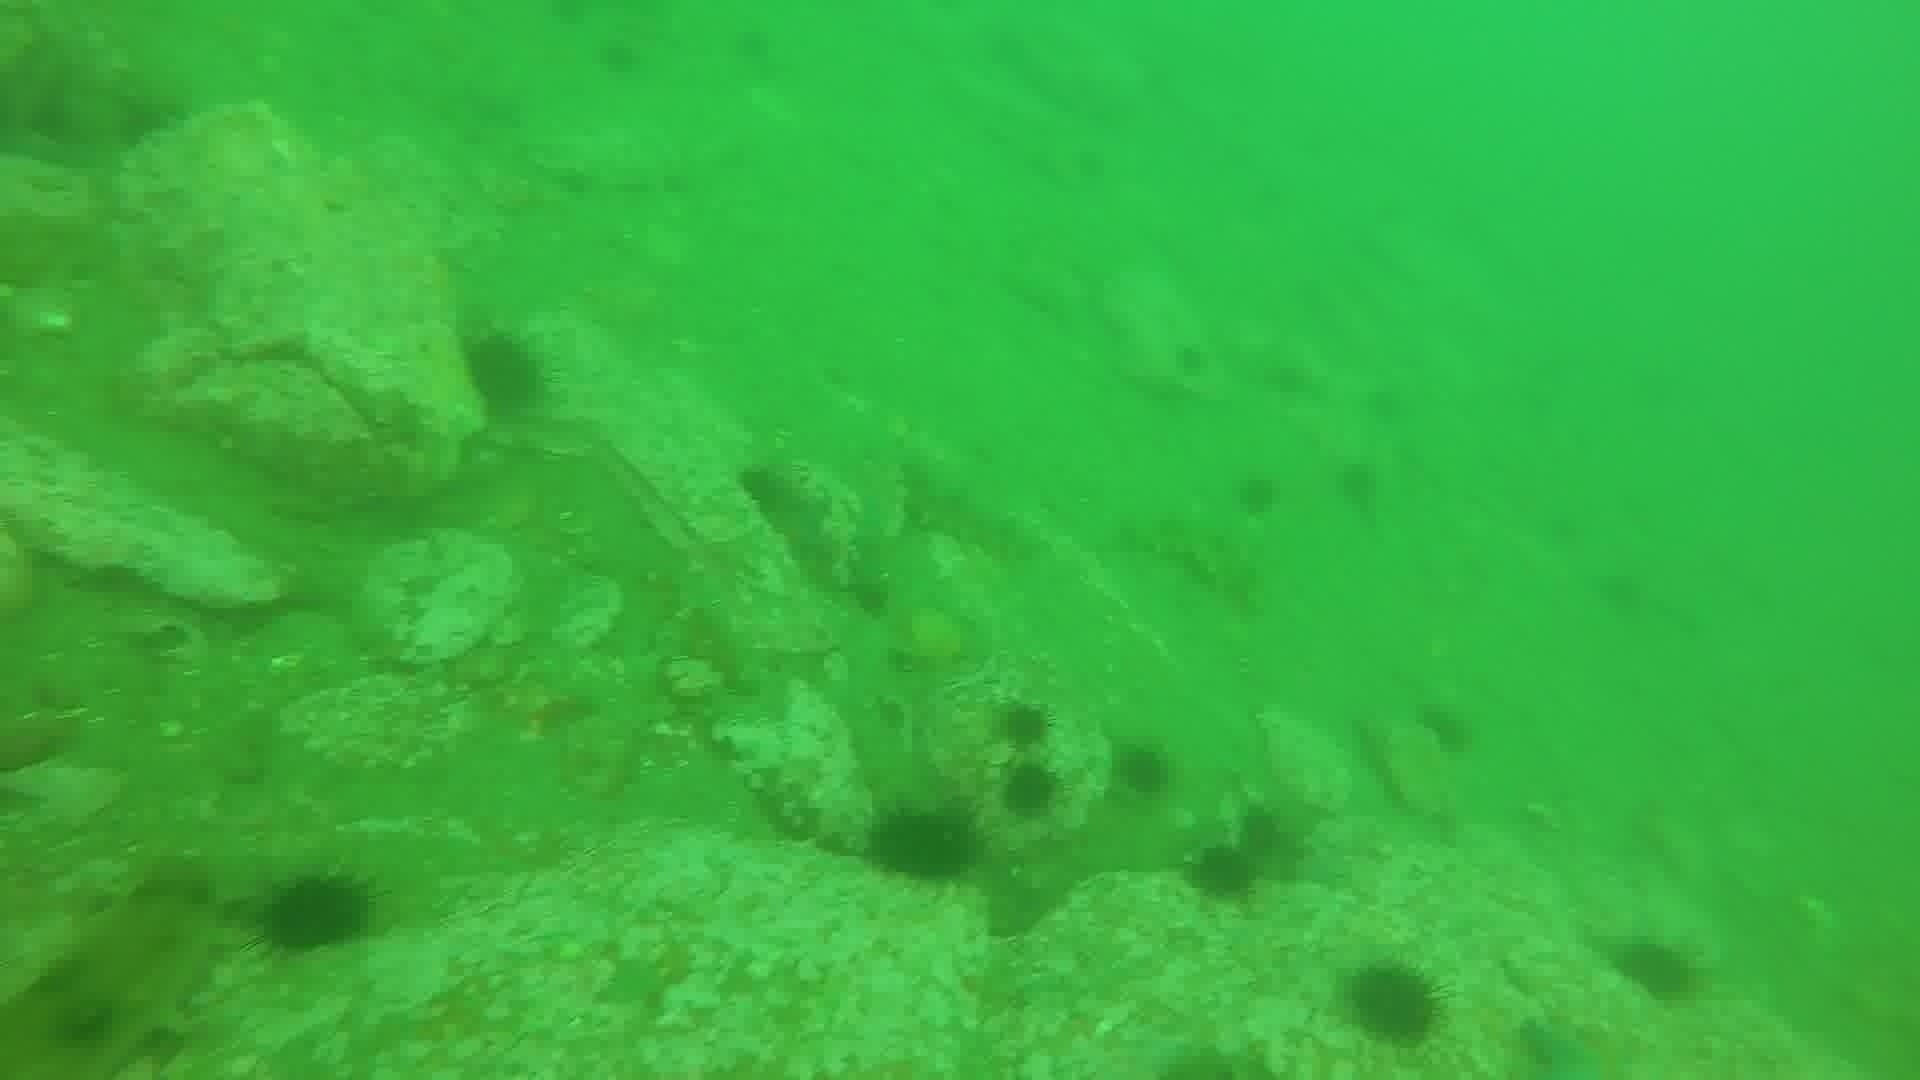echinus: (253, 868, 378, 961), (862, 800, 982, 890), (1340, 957, 1448, 1051), (456, 328, 551, 425), (1607, 934, 1702, 1007), (1182, 837, 1265, 907), (1228, 800, 1302, 878), (733, 458, 807, 526), (996, 760, 1065, 822), (1110, 738, 1176, 800), (1414, 699, 1480, 760), (990, 696, 1058, 753), (1332, 458, 1385, 516), (1232, 469, 1284, 520)
holothurian: (11, 865, 229, 1077), (901, 443, 1052, 563), (1112, 502, 1267, 611)
starfish: (1514, 1011, 1643, 1073)
